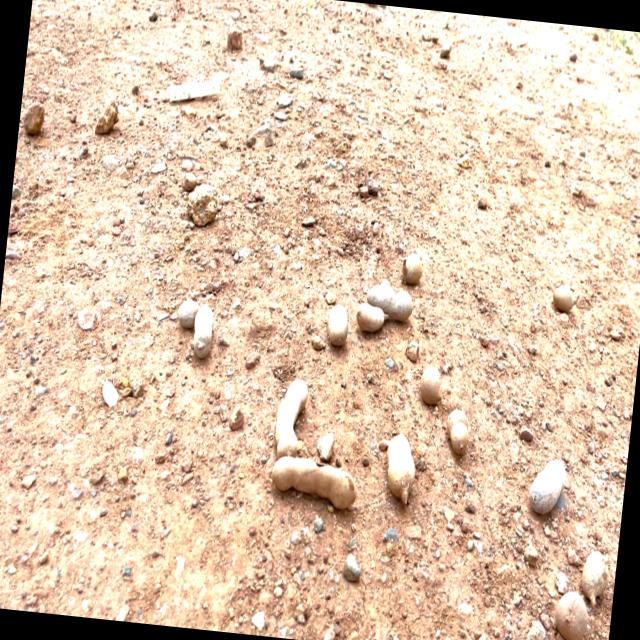tamarind: (261, 447, 367, 521), (270, 359, 312, 461), (376, 428, 425, 506), (360, 266, 418, 324), (544, 582, 596, 640), (185, 293, 221, 372), (526, 456, 569, 516), (576, 542, 611, 612), (320, 297, 357, 352), (440, 405, 476, 461), (414, 354, 447, 414), (352, 290, 390, 338), (174, 292, 200, 336)
